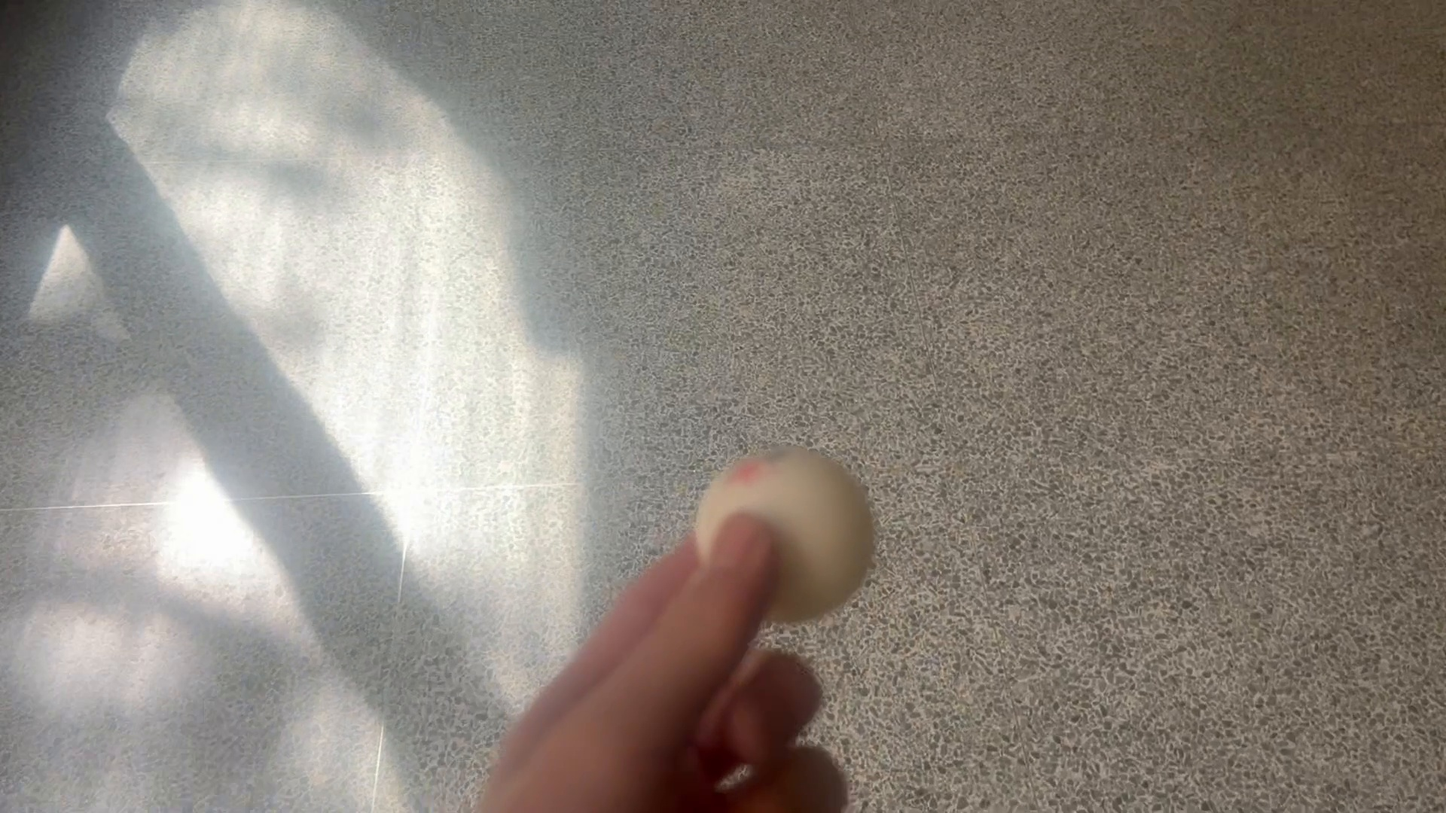Ball: (688, 450, 874, 622)
